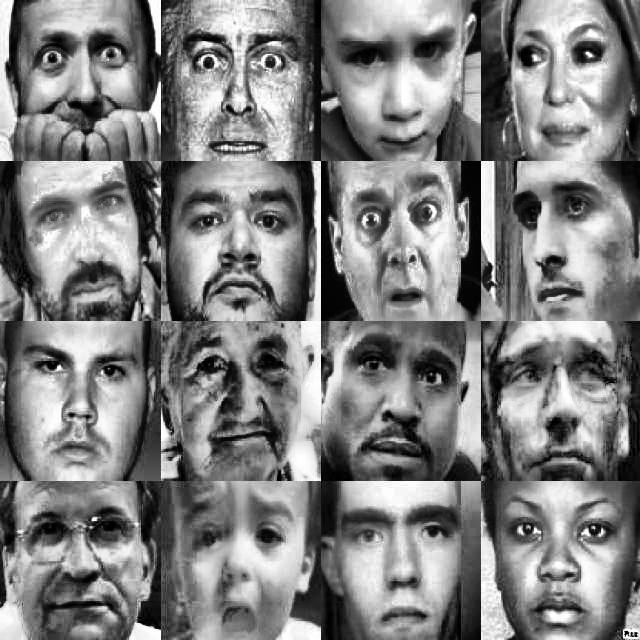angry: (172, 7, 308, 164), (494, 486, 625, 640), (21, 336, 141, 479)
fear: (0, 1, 158, 158), (340, 175, 460, 311)
happy: (166, 339, 309, 470), (13, 504, 144, 640)
neutral: (168, 169, 308, 313), (12, 169, 146, 312), (334, 494, 458, 640), (505, 170, 622, 318), (343, 340, 466, 468)
sad: (169, 484, 302, 640), (331, 9, 467, 157), (496, 333, 627, 470), (503, 21, 620, 158)
